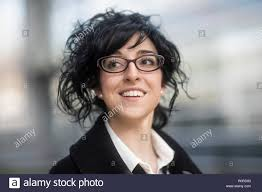Glasses: (93, 55, 167, 75)
